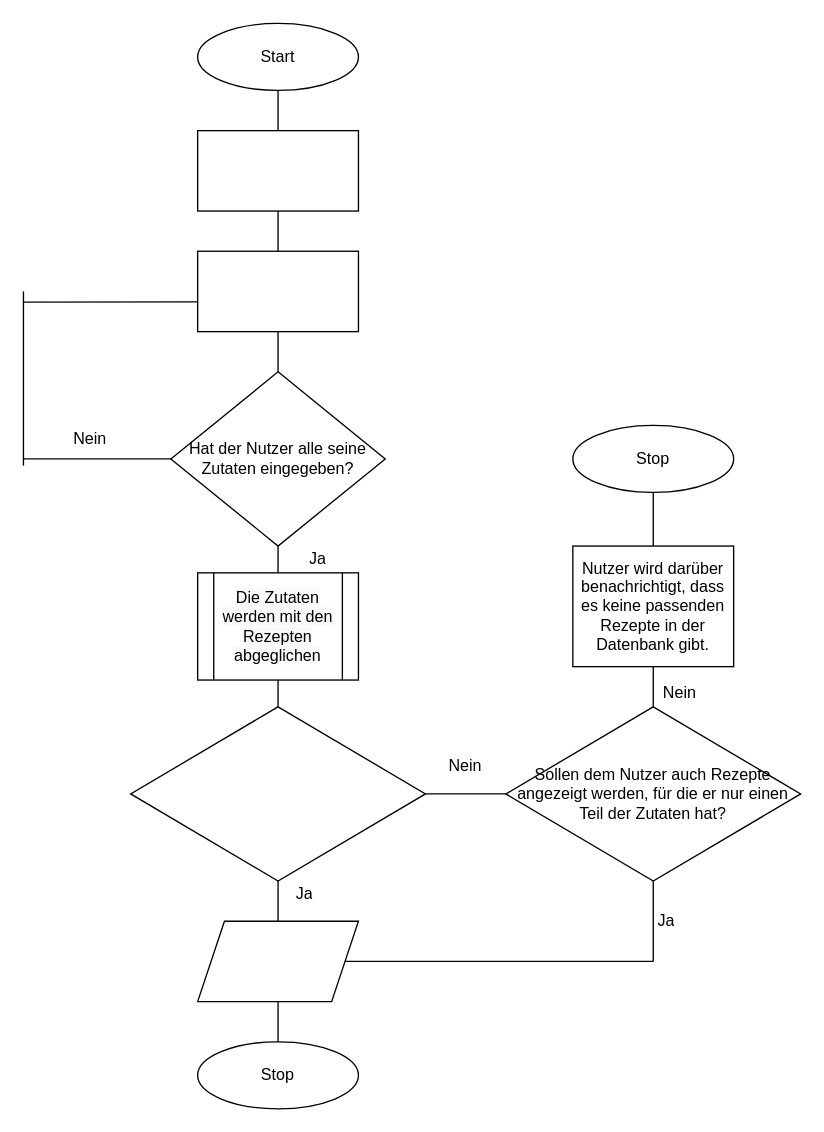
Some shapes in this 824 by 1132 pixel diagram are drawn without their labels. Here are the shapes that lost their labels. From the top down, the centre of each, then its label:
the point at 277,170: Applikation wird gestartet
the point at 277,291: Nutzer wird aufgefordert, seine vorhandenen Zutaten aufzulisten
the point at 277,793: Gibt es Rezepte, für die der Nutzer bereits alle Zutaten hat?
the point at 277,961: Rezepte werden ausgegeben.
